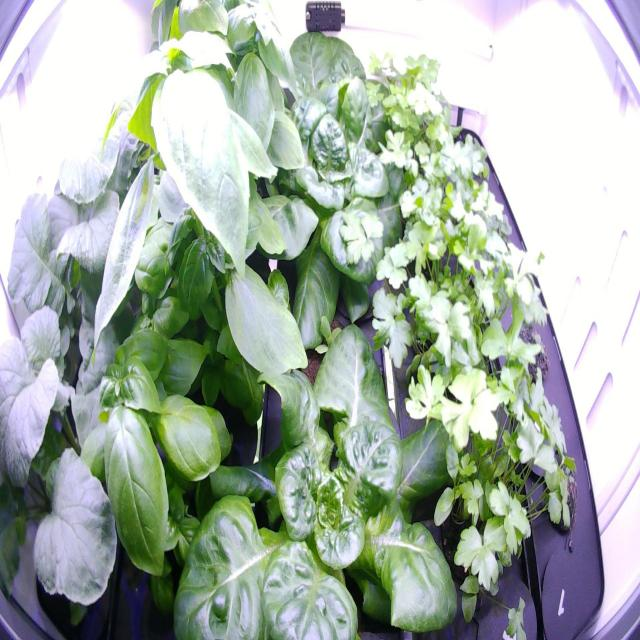young: (160, 310, 482, 638), (224, 79, 432, 361), (235, 20, 408, 181), (283, 297, 362, 403)
